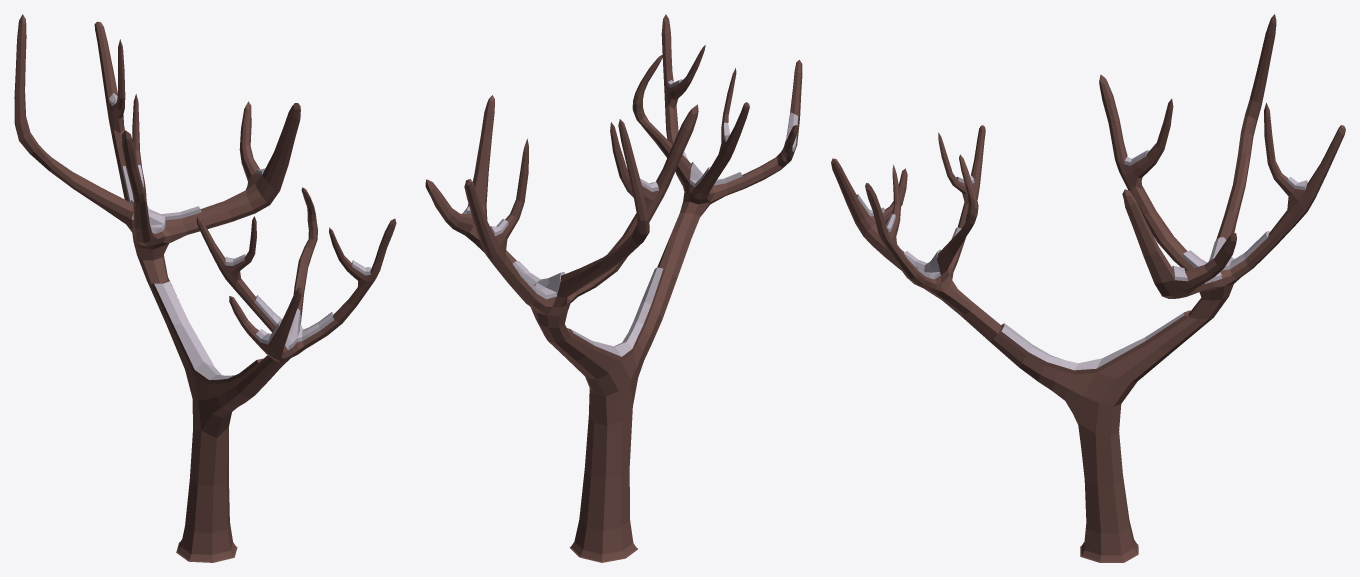
The model's file is commontree_dead_snow_1.glb.
3 views of the same model, side by side, from view 1: azimuth 30°, elevation 25°; view 2: azimuth 150°, elevation 25°; view 3: azimuth 270°, elevation 25° (orthographic). The views are drawn at different scales.
Visible parts, largest first — view 1: CommonTree_Dead_Snow_1; view 2: CommonTree_Dead_Snow_1; view 3: CommonTree_Dead_Snow_1.
Part boxes in pixels (left/top/right/bottom): CommonTree_Dead_Snow_1: left=14, top=14, right=396, bottom=562; CommonTree_Dead_Snow_1: left=425, top=14, right=802, bottom=562; CommonTree_Dead_Snow_1: left=831, top=14, right=1345, bottom=562.
Bounding box in the file's own units: 1.04 × 2.22 × 2.12.
